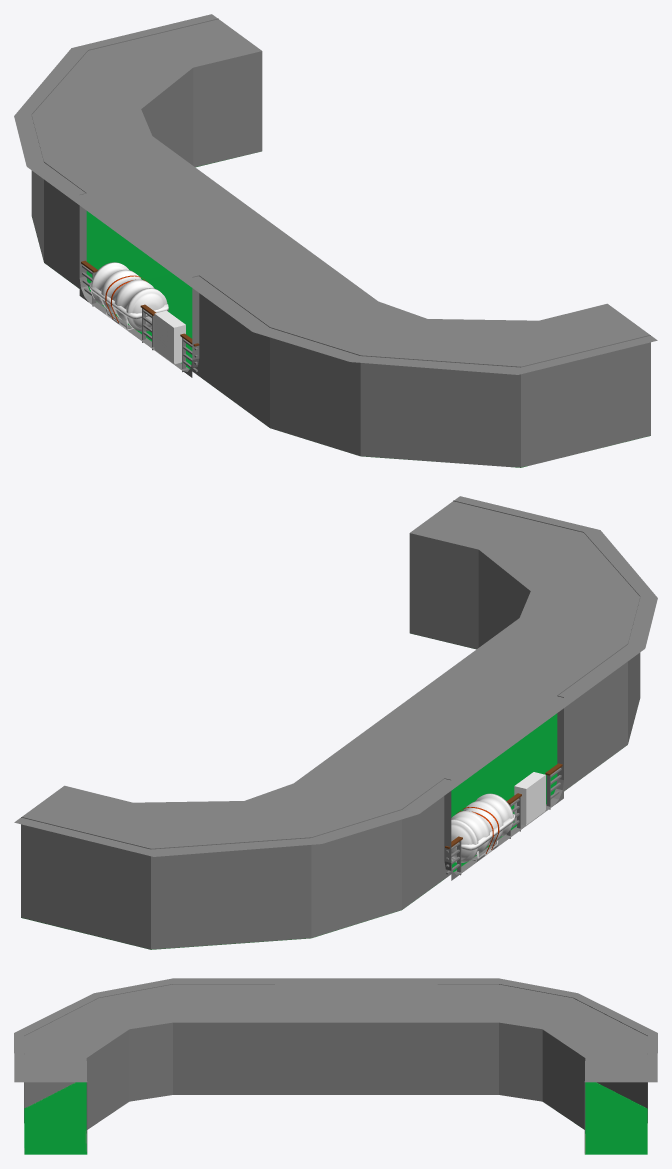
The picture shows the model from 3 angles, top to bottom: view 1: azimuth 30°, elevation 25°; view 2: azimuth 150°, elevation 25°; view 3: azimuth 270°, elevation 25°; orthographic projection. The views are drawn at different scales.
Parts seen in each view (by area): view 1: Ship 2.002, Liferaft - 1, Cube.010; view 2: Ship 2.002, Liferaft - 1, Cube.010; view 3: Ship 2.002.
Part boxes in pixels (x1=…): Ship 2.002: x1=14, y1=14, x2=657, y2=467; Liferaft - 1: x1=89, y1=262, x2=168, y2=331; Cube.010: x1=154, y1=310, x2=185, y2=364; Ship 2.002: x1=14, y1=496, x2=657, y2=949; Liferaft - 1: x1=451, y1=793, x2=514, y2=862; Cube.010: x1=514, y1=772, x2=545, y2=825; Ship 2.002: x1=14, y1=978, x2=657, y2=1154.
Size of what is drawn, in the model's own units: 17.12 by 5.77 by 44.86.
Materials: 8 (4 with a texture image).
